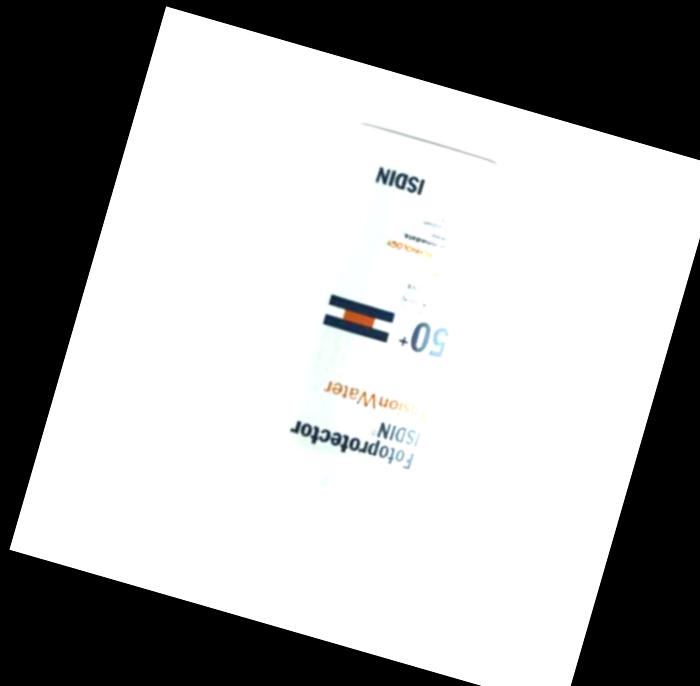cosmetic: (207, 110, 523, 596)
